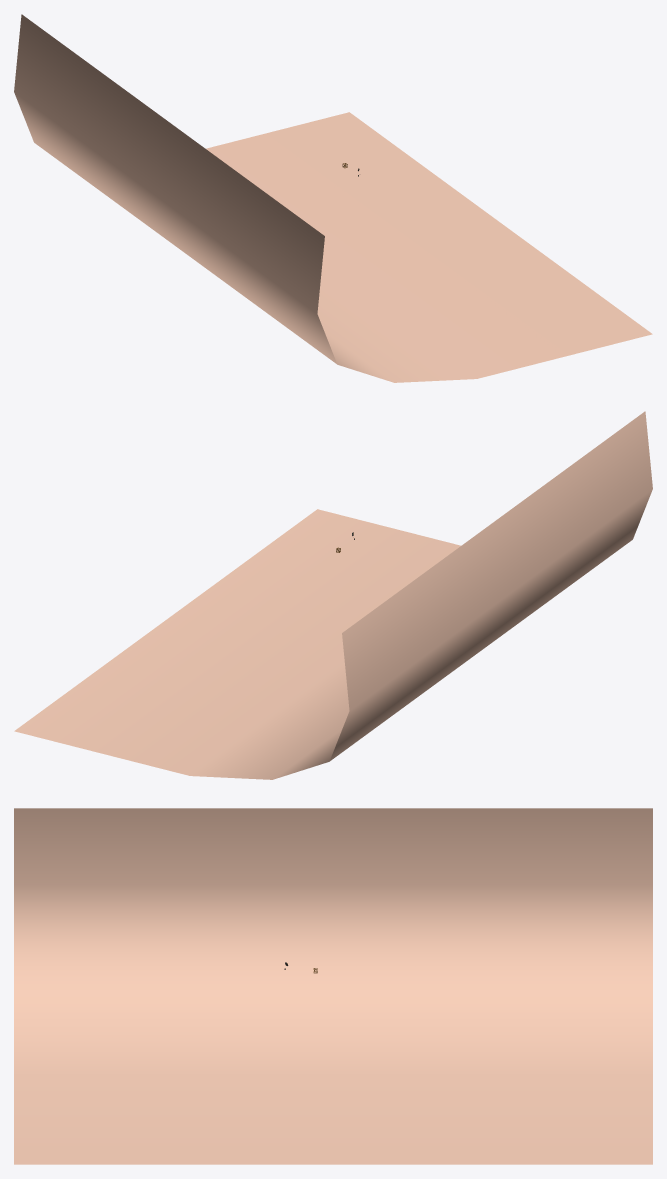
The model's file is BATTLE.fbx.
The picture shows the model from 3 angles, top to bottom: view 1: azimuth 30°, elevation 25°; view 2: azimuth 150°, elevation 25°; view 3: azimuth 270°, elevation 25°; orthographic projection. The views are drawn at different scales.
Visible parts, largest first — view 1: S_Background_Chernobog_B; view 2: S_Background_Chernobog_B; view 3: S_Background_Chernobog_B.
Part boxes in pixels (x1=…): S_Background_Chernobog_B: x1=14, y1=14, x2=652, y2=382; S_Background_Chernobog_B: x1=14, y1=411, x2=652, y2=779; S_Background_Chernobog_B: x1=14, y1=808, x2=652, y2=1164.
Bounding box in the file's own units: 91.45 × 46.87 × 143.
